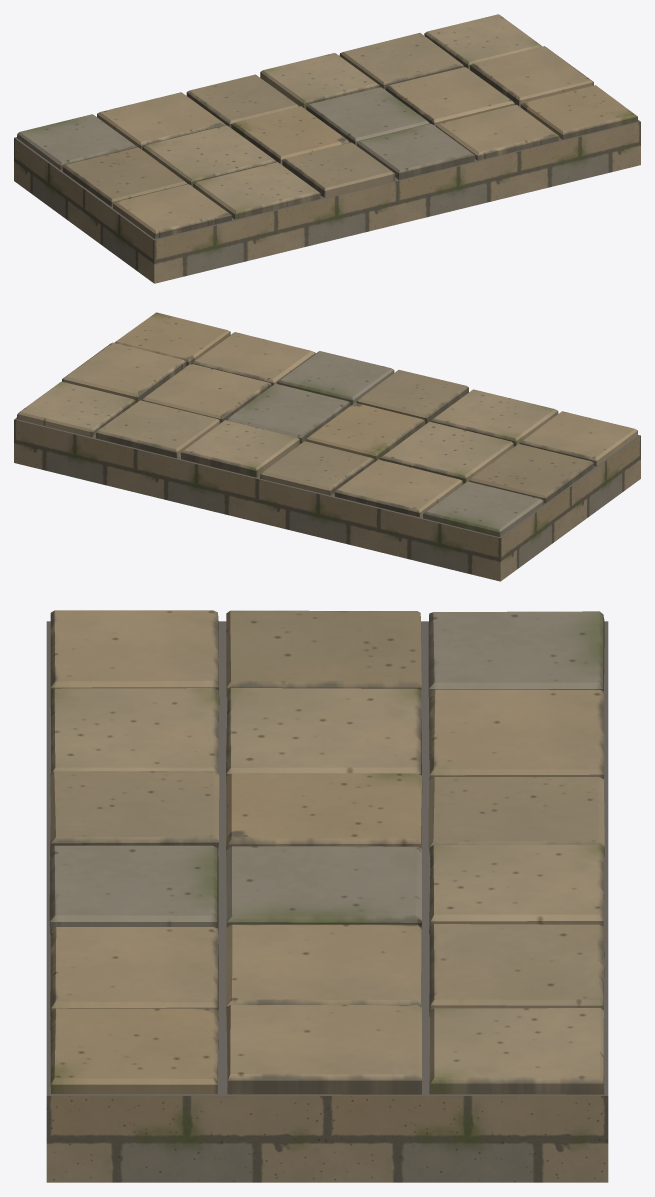
The model's file is Stone_Platform_4m.glb.
The picture shows the model from 3 angles, top to bottom: view 1: azimuth 30°, elevation 25°; view 2: azimuth 150°, elevation 25°; view 3: azimuth 270°, elevation 25°; orthographic projection. The views are drawn at different scales.
Parts seen in each view (by area): view 1: Stone_Platform_4m; view 2: Stone_Platform_4m; view 3: Stone_Platform_4m.
Boxes of the visible parts, x1,y1,x2,y2 form: Stone_Platform_4m: (14,14,640,283); Stone_Platform_4m: (14,312,640,581); Stone_Platform_4m: (46,610,608,1182).
Bounding box in the file's own units: 4 × 0.4112 × 2.
2 materials, 1 textured.
